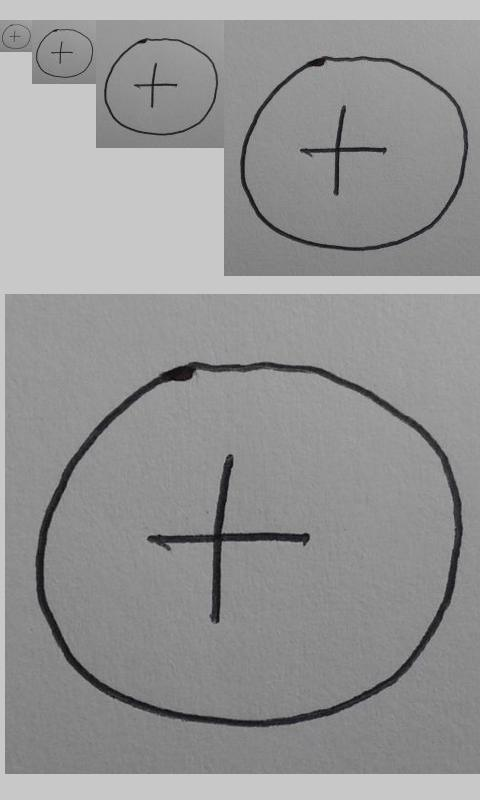button: (34, 359, 465, 730), (238, 55, 469, 252), (103, 37, 220, 136), (35, 28, 94, 78), (2, 24, 31, 50)
